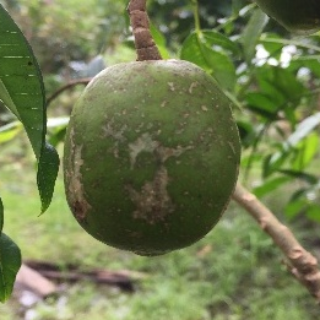coc: (60, 58, 241, 258)
